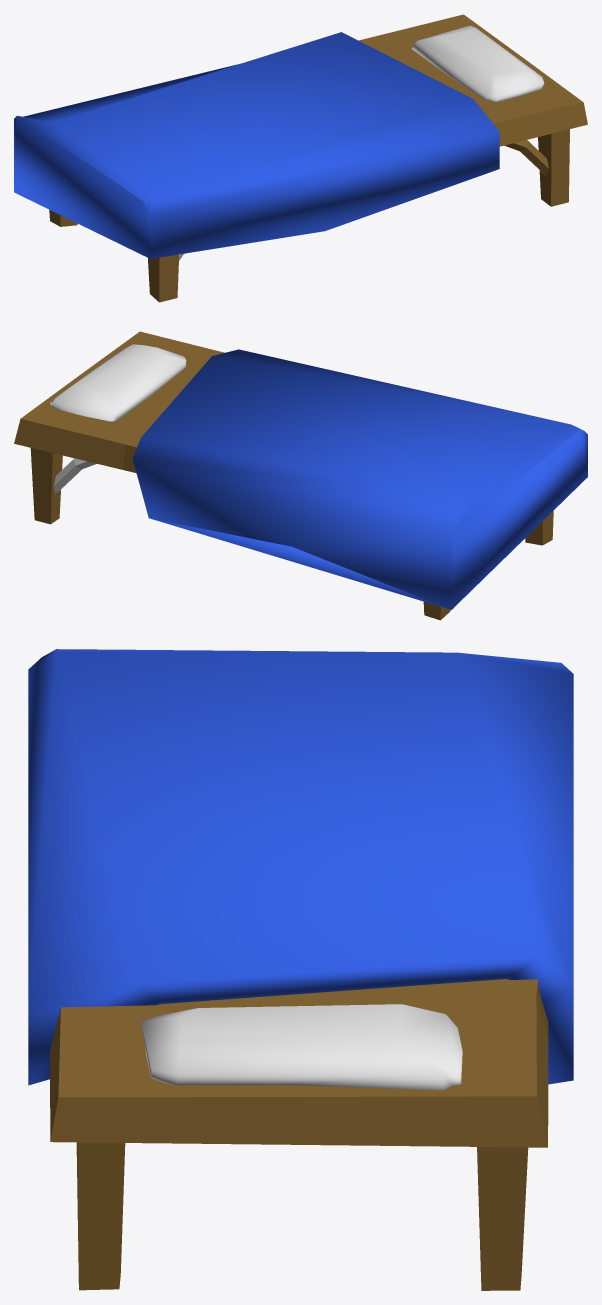
The model's file is bed.glb.
The picture shows the model from 3 angles, top to bottom: view 1: azimuth 30°, elevation 25°; view 2: azimuth 150°, elevation 25°; view 3: azimuth 270°, elevation 25°; orthographic projection. The views are drawn at different scales.
Parts seen in each view (by area): view 1: blanket, bedframe, Pillow; view 2: blanket, bedframe, Pillow; view 3: blanket, bedframe, Pillow.
Part boxes in pixels (x1=…): blanket: x1=14, y1=32, x2=499, y2=258; bedframe: x1=49, y1=14, x2=587, y2=302; Pillow: x1=411, y1=25, x2=544, y2=101; blanket: x1=132, y1=349, x2=587, y2=609; bedframe: x1=14, y1=331, x2=553, y2=620; Pillow: x1=50, y1=344, x2=186, y2=421; blanket: x1=28, y1=649, x2=573, y2=1085; bedframe: x1=50, y1=979, x2=548, y2=1290; Pillow: x1=141, y1=1004, x2=462, y2=1090.
Size of what is drawn, in the model's own units: 4.09 by 1.06 by 2.18.
